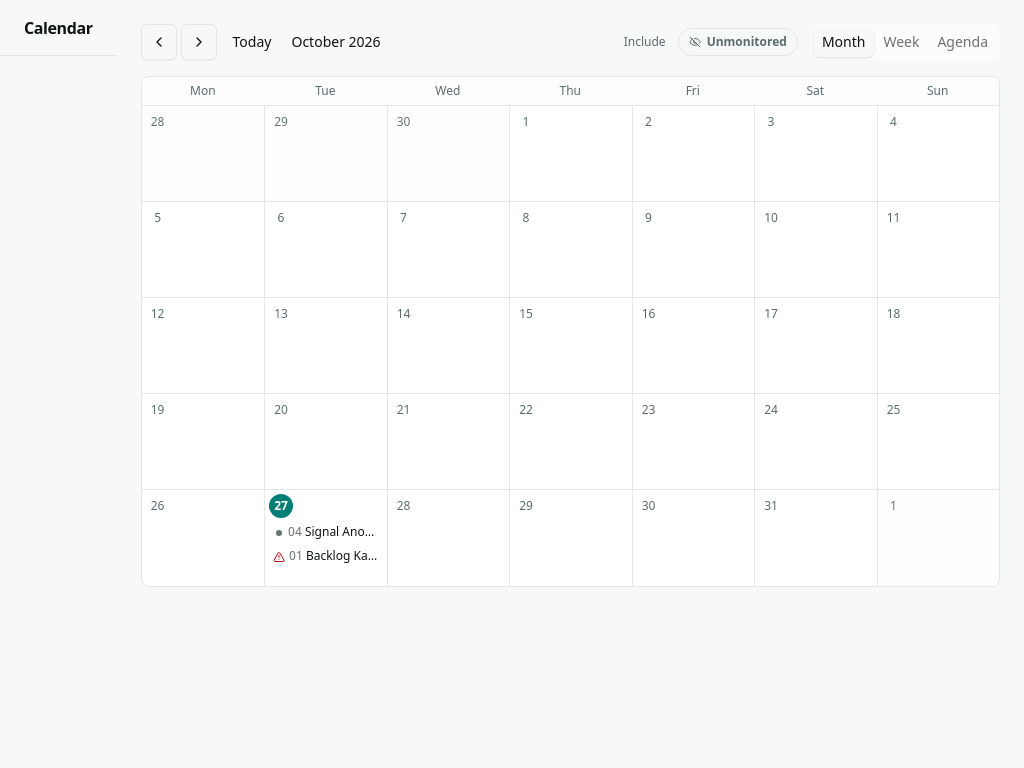
Test case: CalendarPage › shows agenda rows with the status badge and import error
Expected: the link "04 Signal Anomaly" is shown, [269,520,382,544]
Click the tab "Agenda": (963, 42) [928,28,997,56]
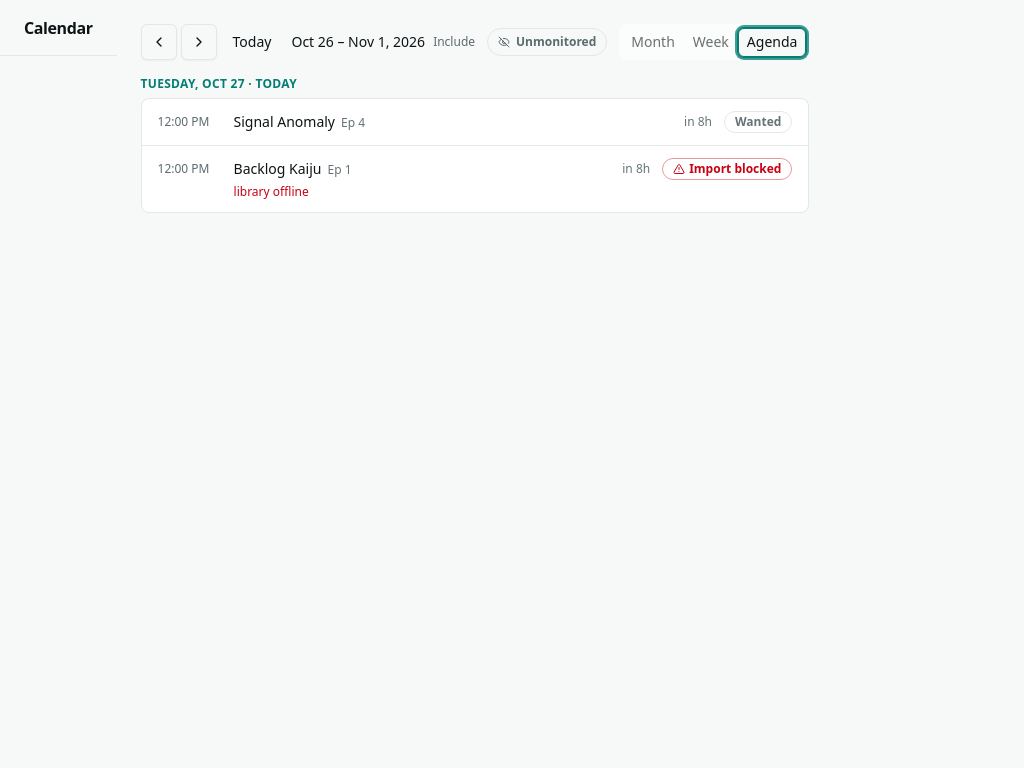
Expected: the heading "Tuesday, Oct 27 · Today" is shown, [141,75,297,92]
Expected: the text "Wanted" is shown, [724,111,792,133]
Expected: the link "Backlog Kaiju" shows "Import blocked", [142,146,808,212]
Click the tab "Week": (711, 42) [684,28,738,56]
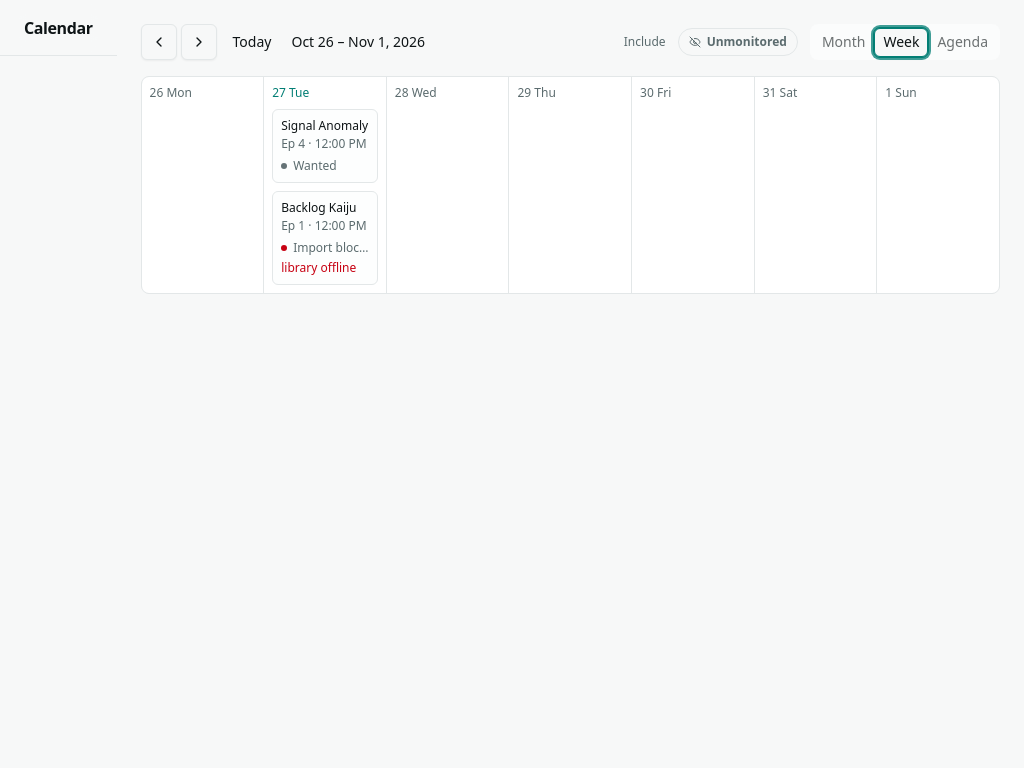
Expected: the link "Backlog Kaiju Ep 1 · 12:00 PM Import blocked library offline" is shown, [272,191,378,285]
